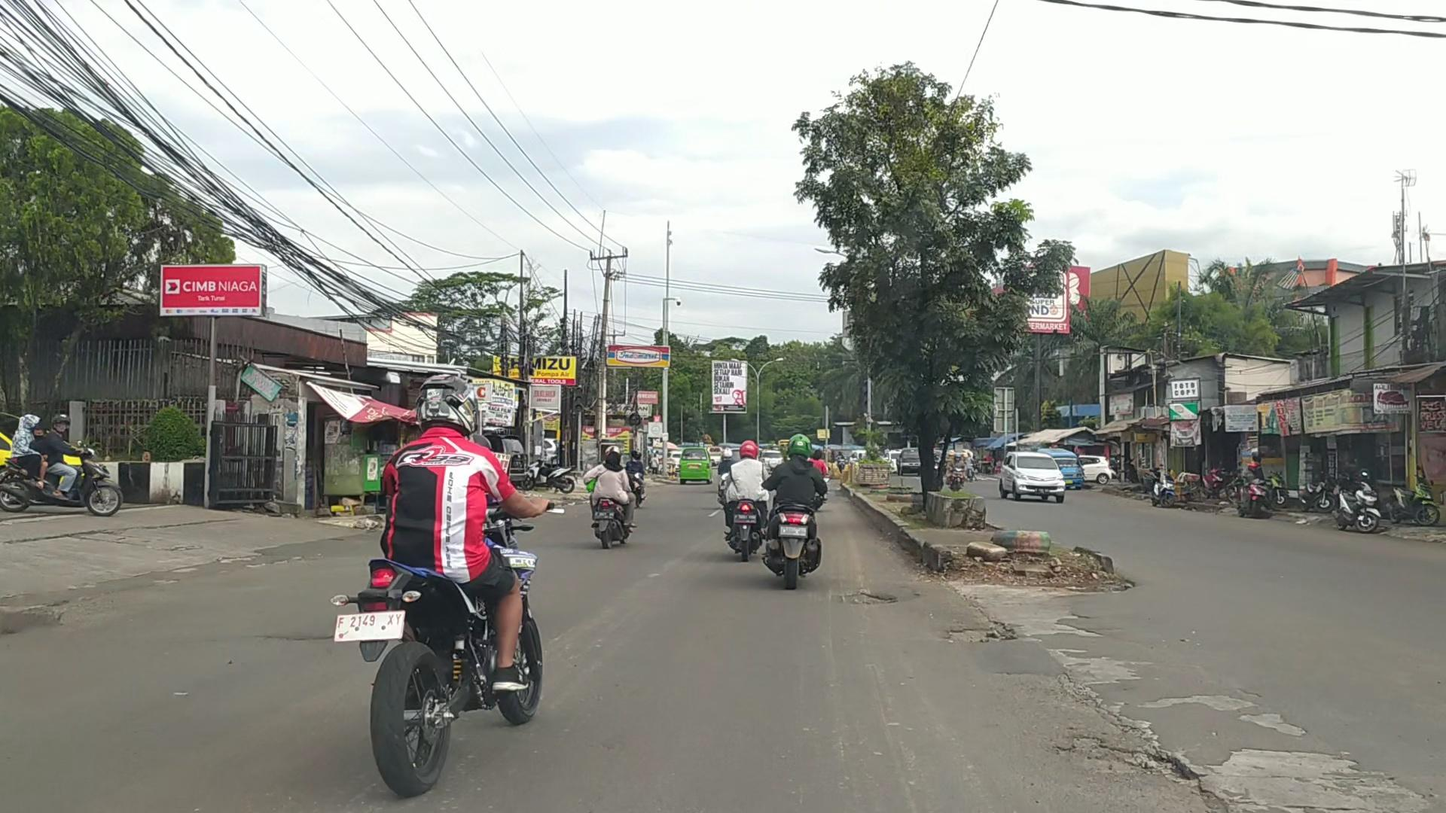pothole: (1051, 732, 1200, 785), (943, 621, 1016, 644), (836, 590, 901, 606)
